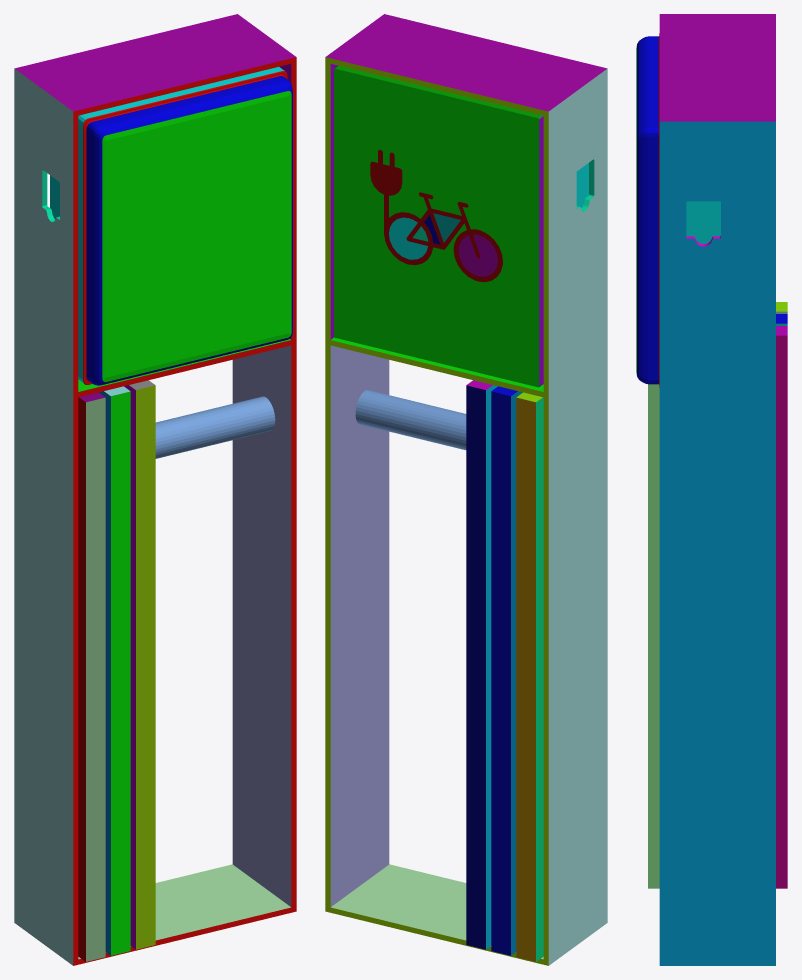
Rendered from charging-station.glb.
3 views of the same model, side by side, from view 1: azimuth 30°, elevation 25°; view 2: azimuth 150°, elevation 25°; view 3: azimuth 270°, elevation 25° (orthographic).
Parts seen in each view (by area): view 1: outframe, back, w1, bar; view 2: outframe, front, w1, bar; view 3: outframe, w1, back.
Boxes of the visible parts, x1,y1,x2,y2 form: outframe: [14, 14, 296, 965]; back: [50, 67, 292, 385]; w1: [78, 380, 155, 961]; bar: [155, 396, 275, 458]; outframe: [325, 14, 607, 965]; front: [334, 65, 543, 387]; w1: [466, 380, 543, 961]; bar: [355, 390, 466, 450]; outframe: [659, 14, 775, 965]; w1: [648, 302, 787, 888]; back: [636, 33, 720, 387].
Size of the model in its own units: 0.4375 by 1.6 by 0.2604.
